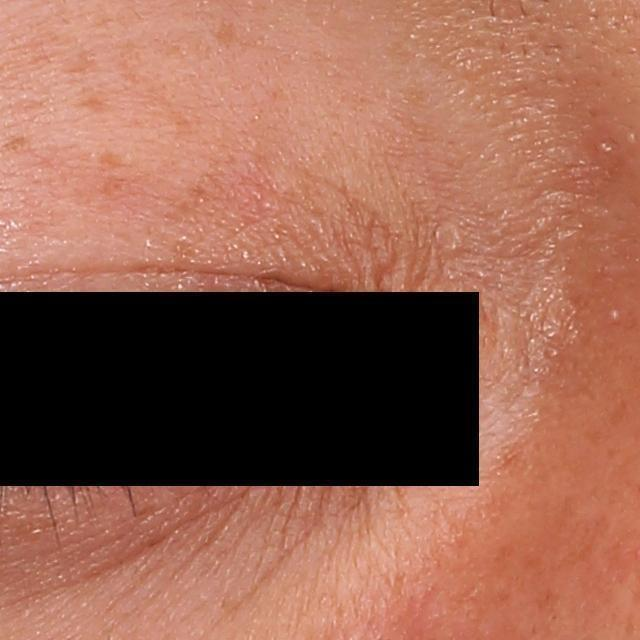melasma: (75, 86, 122, 114), (93, 149, 136, 170), (210, 22, 240, 49)
